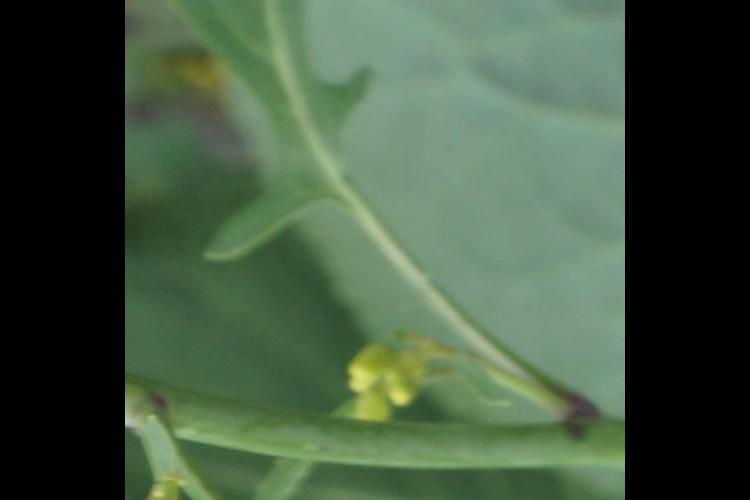bud: (339, 344, 396, 401), (377, 370, 426, 419)
